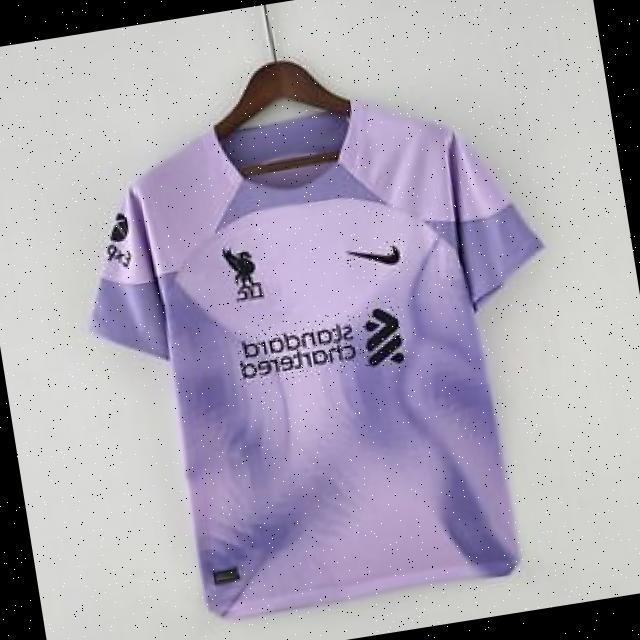Nike: (345, 239, 406, 271)
Standard Chartered: (233, 302, 411, 388)
